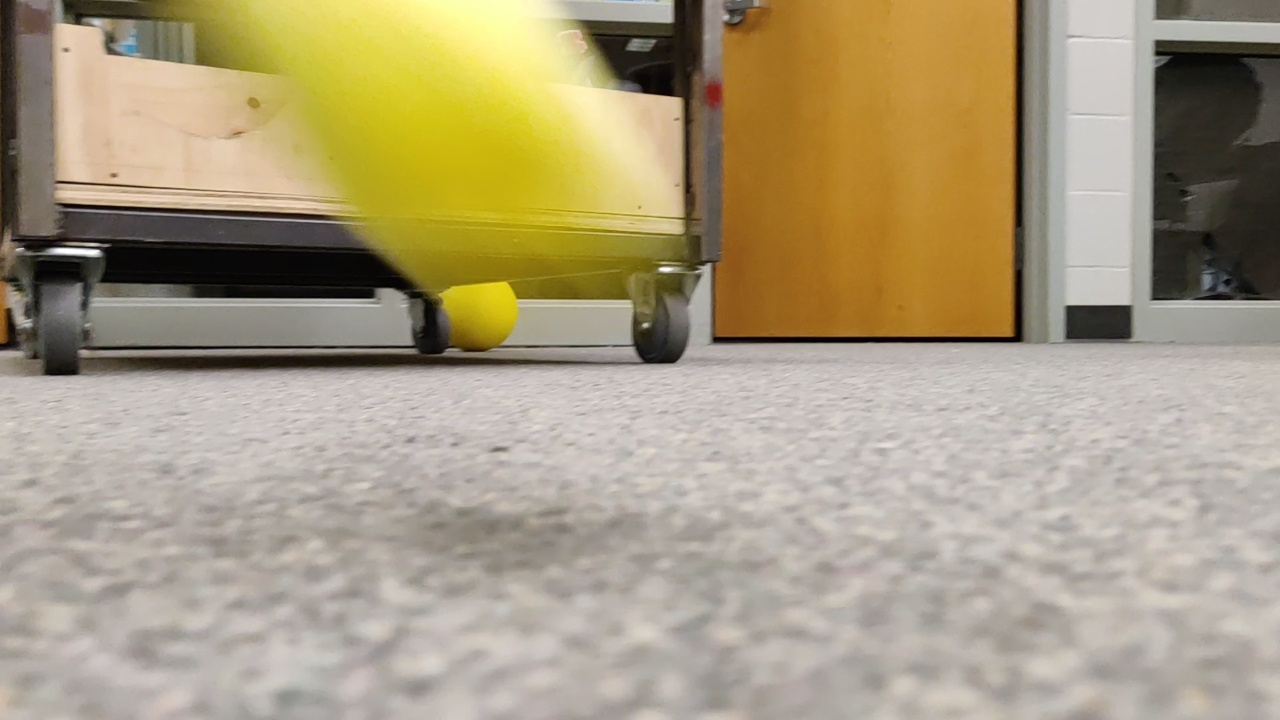Ball: (440, 269, 510, 363)
